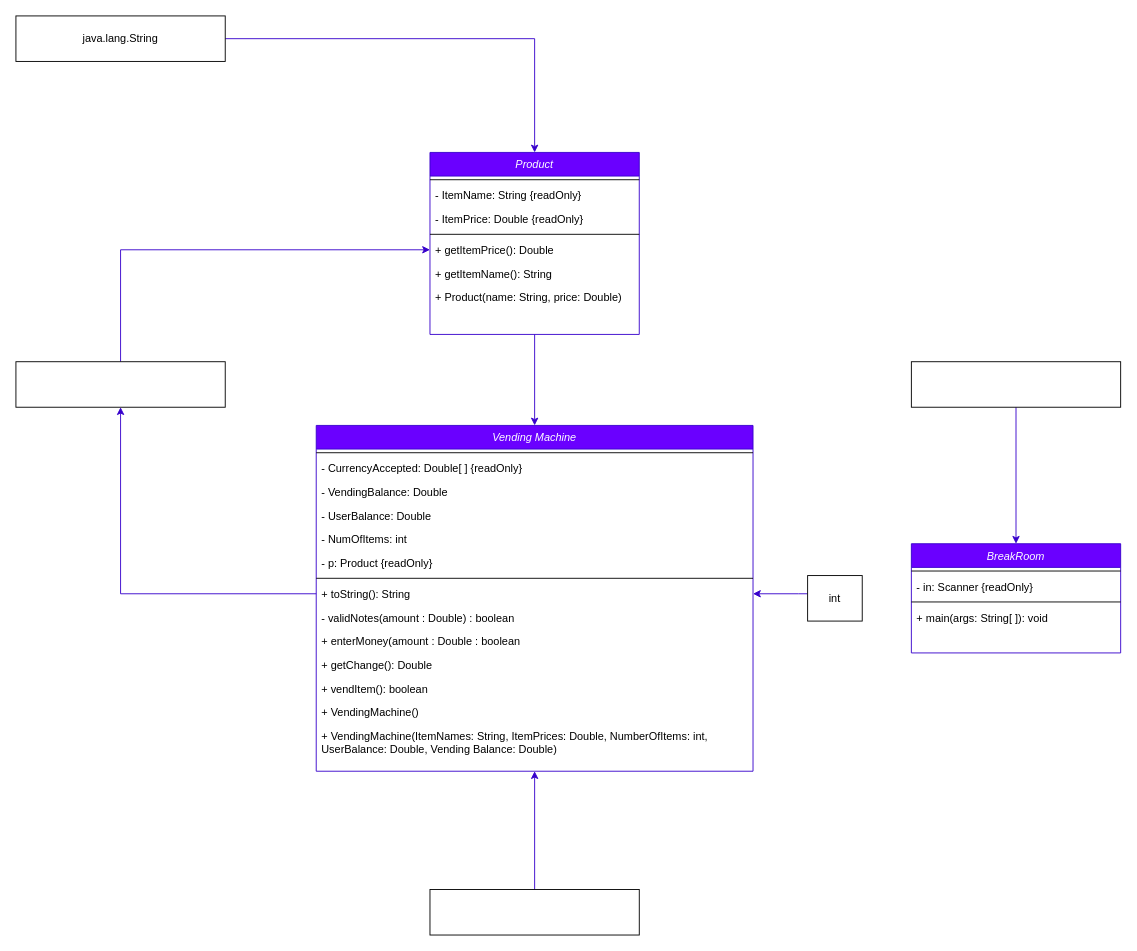
Some shapes in this 1137 by 951 pixel diagram are drawn without their labels. Each missing label, with the centre of its shape:
"Java.lang.Double" belongs at [120,384].
"java.lang.Double[ ]" belongs at [534,912].
"java.util.Scanner" belongs at [1015,384].
